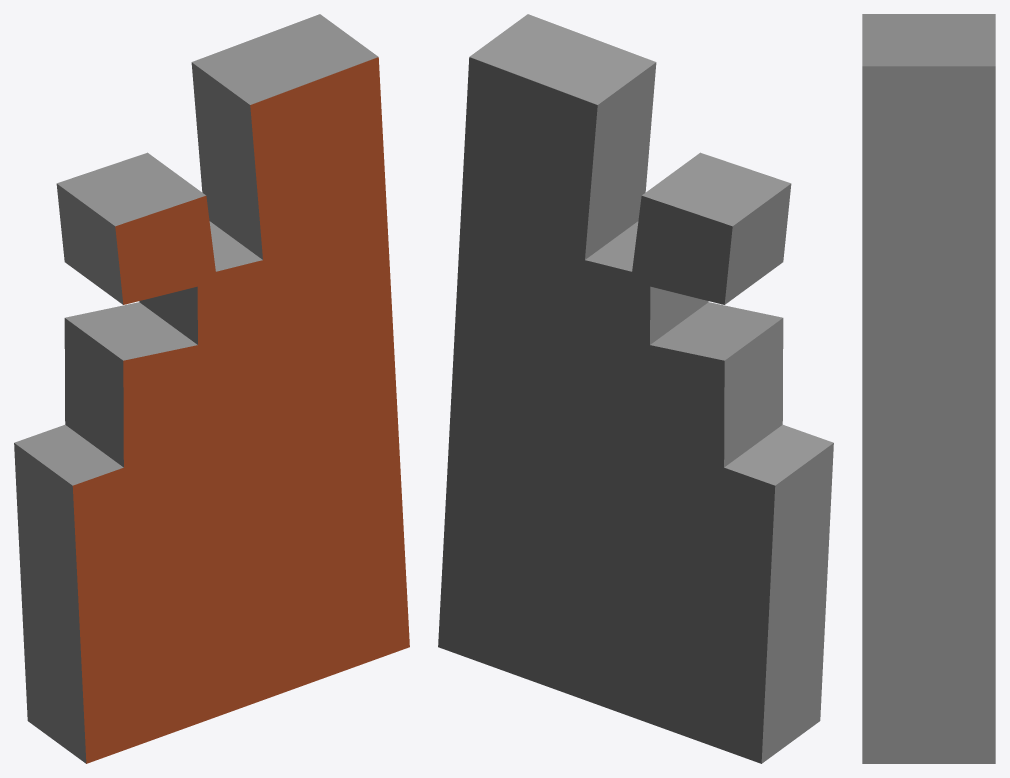
File: construction_1514_assumed_A_Casa_h6m.obj
3 views of the same model, side by side, from view 1: azimuth 30°, elevation 25°; view 2: azimuth 150°, elevation 25°; view 3: azimuth 270°, elevation 25° (orthographic). The views are drawn at different scales.
Parts seen in each view (by area): view 1: construction_1514_assumed_A_Casa; view 2: construction_1514_assumed_A_Casa; view 3: construction_1514_assumed_A_Casa.
Part boxes in pixels (x1,y1,x2,y2): construction_1514_assumed_A_Casa: (14, 14, 409, 763); construction_1514_assumed_A_Casa: (438, 14, 833, 763); construction_1514_assumed_A_Casa: (862, 14, 995, 763).
Size of the model in its own units: 19.9 by 35.85 by 6.
